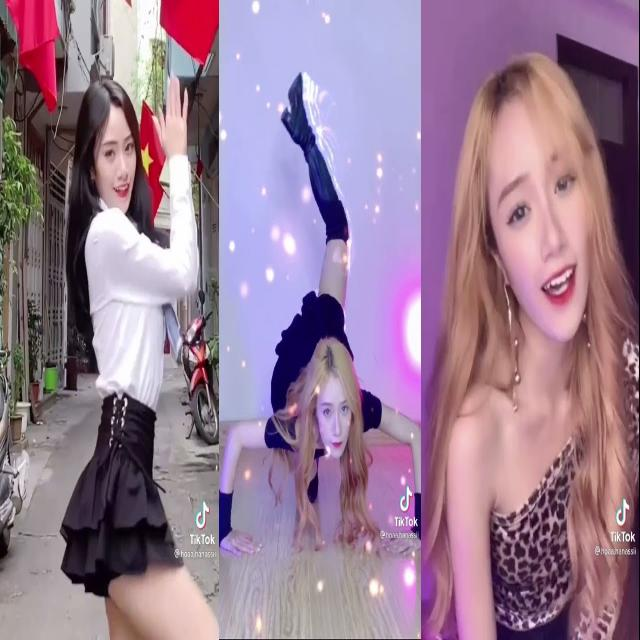clothes: (68, 209, 196, 561)
